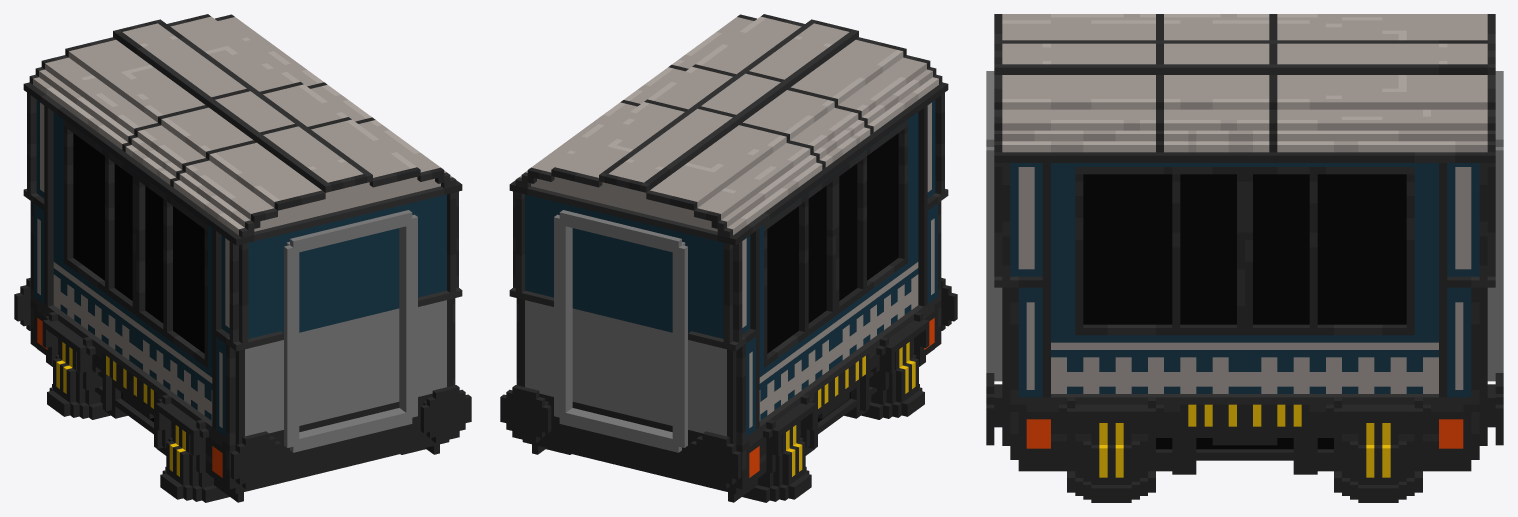
The model's file is Train-0.obj.
3 views of the same model, side by side, from view 1: azimuth 30°, elevation 25°; view 2: azimuth 150°, elevation 25°; view 3: azimuth 270°, elevation 25° (orthographic). The views are drawn at different scales.
Size of the model in its own units: 4.4 by 5.1 by 6.4.
1 material, 1 textured.
